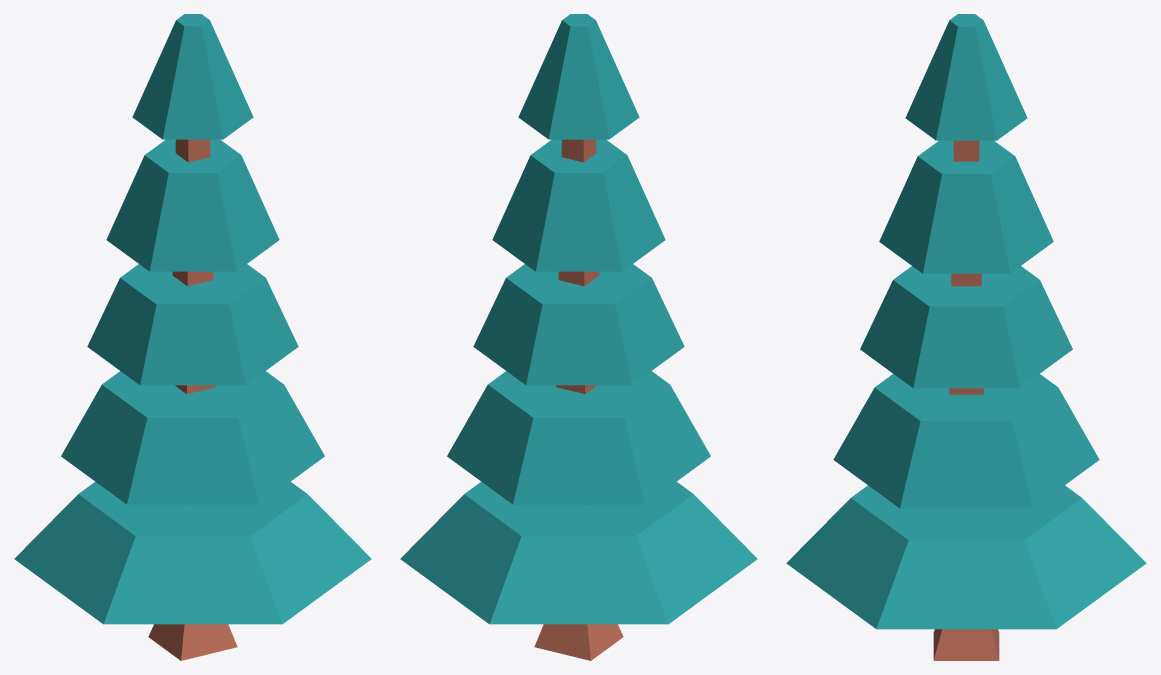
File: d_kenney_pin_rond.glb
3 views of the same model, side by side, from view 1: azimuth 30°, elevation 25°; view 2: azimuth 150°, elevation 25°; view 3: azimuth 270°, elevation 25° (orthographic).
Parts seen in each view (by area): view 1: d_kenney_pin_rond; view 2: d_kenney_pin_rond; view 3: d_kenney_pin_rond.
Boxes of the visible parts, x1,y1,x2,y2 form: d_kenney_pin_rond: (14, 14, 371, 660); d_kenney_pin_rond: (400, 14, 757, 660); d_kenney_pin_rond: (786, 14, 1146, 660).
Bounding box in the file's own units: 0.6171 × 1.37 × 0.7125.
1 material, 1 textured.
